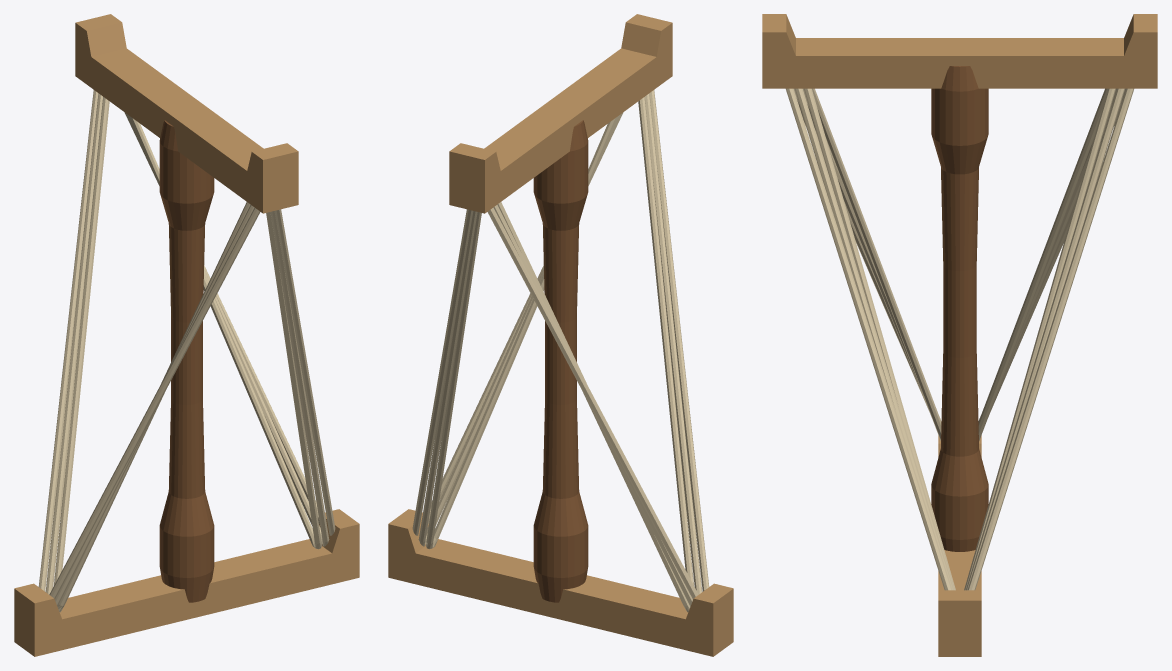
3 views of the same model, side by side, from view 1: azimuth 30°, elevation 25°; view 2: azimuth 150°, elevation 25°; view 3: azimuth 270°, elevation 25° (orthographic). The views are drawn at different scales.
Parts seen in each view (by area): view 1: WholeTurnedHandColumn, WholeGroundFootLowerEndArm, WholePerpendicularUpperEndArm, WholeClosedNonplanarSkeinCircuit_0, WholeClosedNonplanarSkeinCircuit_2, WholeClosedNonplanarSkeinCircuit_1; view 2: WholeTurnedHandColumn, WholeGroundFootLowerEndArm, WholePerpendicularUpperEndArm, WholeClosedNonplanarSkeinCircuit_0, WholeClosedNonplanarSkeinCircuit_2, WholeClosedNonplanarSkeinCircuit_1; view 3: WholePerpendicularUpperEndArm, WholeTurnedHandColumn, WholeClosedNonplanarSkeinCircuit_2, WholeClosedNonplanarSkeinCircuit_0, WholeClosedNonplanarSkeinCircuit_1, WholeGroundFootLowerEndArm.
Boxes of the visible parts, x1,y1,x2,y2 form: WholeTurnedHandColumn: (159, 120, 214, 602); WholeGroundFootLowerEndArm: (14, 509, 359, 656); WholePerpendicularUpperEndArm: (75, 14, 298, 213); WholeClosedNonplanarSkeinCircuit_0: (38, 90, 335, 599); WholeClosedNonplanarSkeinCircuit_2: (54, 97, 321, 612); WholeClosedNonplanarSkeinCircuit_1: (45, 93, 329, 606); WholeTurnedHandColumn: (533, 120, 588, 602); WholeGroundFootLowerEndArm: (388, 509, 733, 656); WholePerpendicularUpperEndArm: (449, 14, 672, 213); WholeClosedNonplanarSkeinCircuit_0: (412, 90, 709, 599); WholeClosedNonplanarSkeinCircuit_2: (426, 97, 693, 612); WholeClosedNonplanarSkeinCircuit_1: (418, 93, 702, 606); WholePerpendicularUpperEndArm: (762, 14, 1157, 88); WholeTurnedHandColumn: (931, 66, 988, 551); WholeClosedNonplanarSkeinCircuit_2: (804, 88, 1115, 590); WholeClosedNonplanarSkeinCircuit_0: (786, 88, 1133, 590); WholeClosedNonplanarSkeinCircuit_1: (795, 88, 1124, 590); WholeGroundFootLowerEndArm: (938, 435, 981, 656).
Size of the model in its own units: 0.33 by 0.507 by 0.33.
